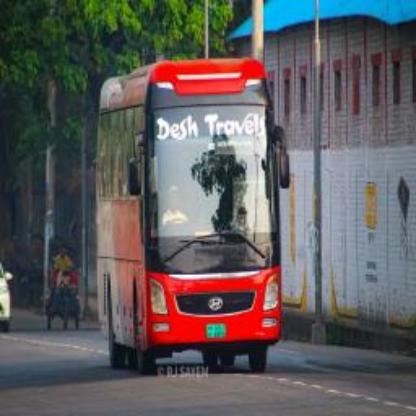bus: (92, 52, 278, 362)
